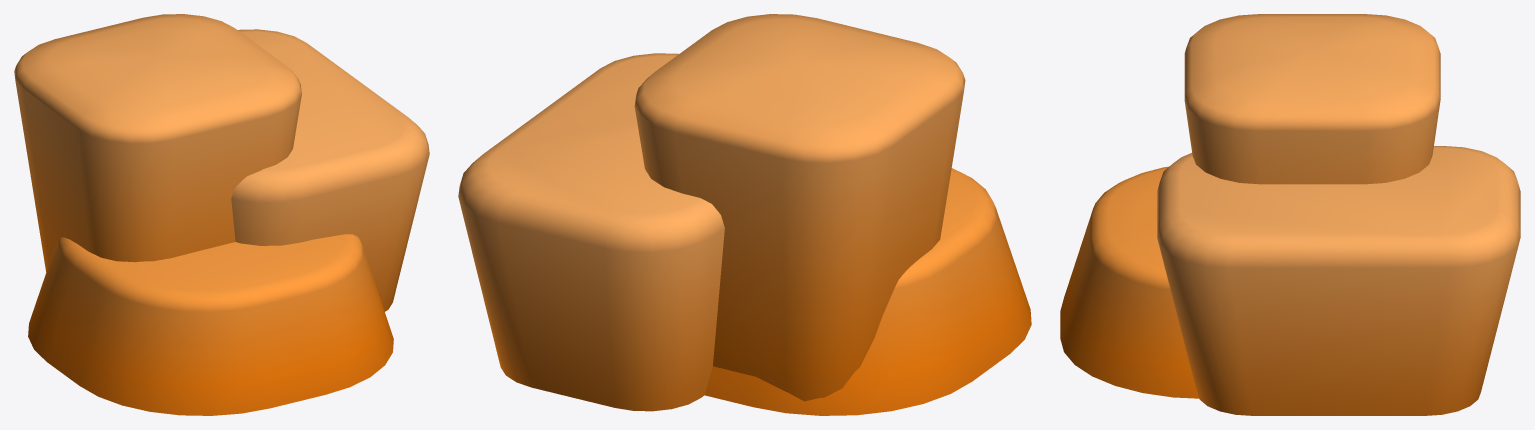
Rendered from Rock_A_04.fbx.
3 renders of one model, left to right at view 1: azimuth 30°, elevation 25°; view 2: azimuth 150°, elevation 25°; view 3: azimuth 270°, elevation 25°, orthographic. The views are drawn at different scales.
Parts seen in each view (by area): view 1: Rock_A_04; view 2: Rock_A_04; view 3: Rock_A_04.
Boxes of the visible parts, bbox=[...] form: Rock_A_04: bbox=[14, 14, 429, 415]; Rock_A_04: bbox=[458, 14, 1031, 415]; Rock_A_04: bbox=[1060, 14, 1520, 415].
Size of the model in its own units: 175 by 123 by 192.
